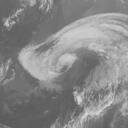cyclone: (23, 12, 127, 114)
